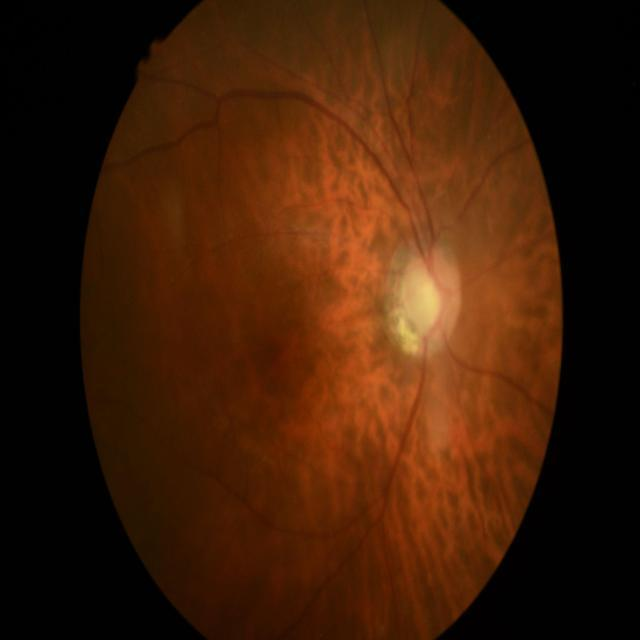cup: (407, 260, 447, 334)
disk: (399, 245, 462, 347)
